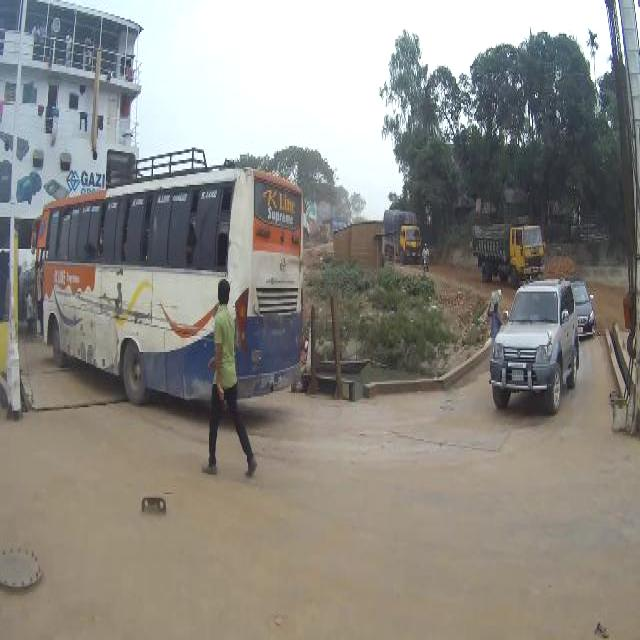BUS: (33, 166, 310, 418)
TRUCK: (470, 221, 548, 282)
